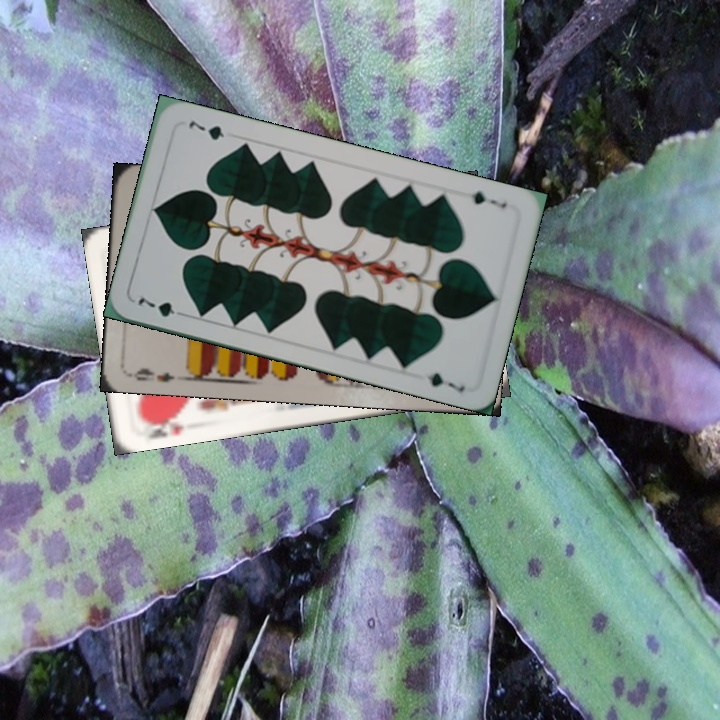E9: (126, 364, 178, 385)
G7: (134, 293, 190, 320), (467, 186, 510, 211)
HK: (137, 409, 187, 441)
